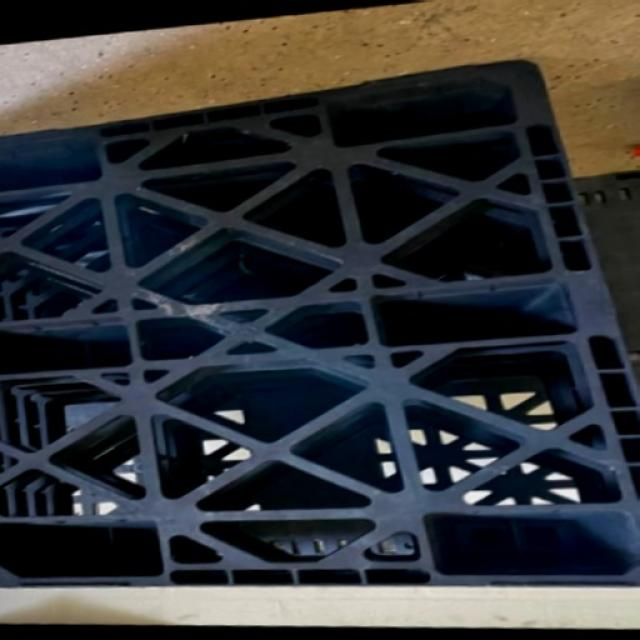non-igps: (0, 53, 640, 593), (569, 166, 640, 387)
